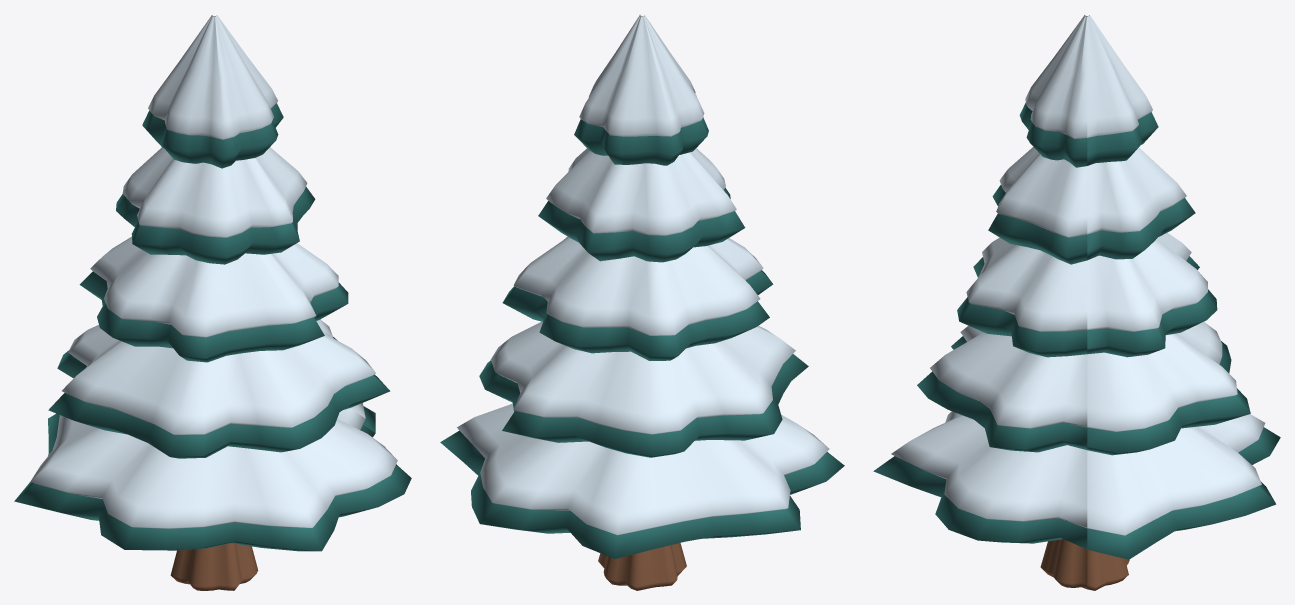
File: pine_3.glb
3 views of the same model, side by side, from view 1: azimuth 30°, elevation 25°; view 2: azimuth 150°, elevation 25°; view 3: azimuth 270°, elevation 25° (orthographic).
Visible parts, largest first — view 1: snow_mantle_0, snow_mantle_1, snow_mantle_2, snow_mantle_3, branch_crown_0, snow_mantle_4, branch_crown_1, branch_crown_2, branch_crown_3, branch_crown_4, sculpted_trunk; view 2: snow_mantle_0, snow_mantle_1, snow_mantle_2, snow_mantle_3, branch_crown_0, snow_mantle_4, branch_crown_1, branch_crown_2, branch_crown_3, branch_crown_4, sculpted_trunk; view 3: snow_mantle_0, snow_mantle_1, snow_mantle_2, snow_mantle_3, branch_crown_0, snow_mantle_4, branch_crown_1, branch_crown_2, branch_crown_3, branch_crown_4, sculpted_trunk.
Part boxes in pixels (bbox=[...]): snow_mantle_0: bbox=[30, 403, 397, 528]; snow_mantle_1: bbox=[62, 319, 375, 434]; snow_mantle_2: bbox=[90, 236, 338, 337]; snow_mantle_3: bbox=[122, 147, 307, 237]; branch_crown_0: bbox=[14, 406, 411, 551]; snow_mantle_4: bbox=[148, 15, 277, 139]; branch_crown_1: bbox=[48, 337, 389, 458]; branch_crown_2: bbox=[79, 271, 348, 362]; branch_crown_3: bbox=[116, 186, 315, 264]; branch_crown_4: bbox=[142, 103, 283, 168]; sculpted_trunk: bbox=[170, 15, 258, 590]; snow_mantle_0: bbox=[457, 403, 829, 535]; snow_mantle_1: bbox=[490, 321, 795, 434]; snow_mantle_2: bbox=[513, 236, 763, 335]; snow_mantle_3: bbox=[546, 148, 736, 235]; branch_crown_0: bbox=[440, 430, 844, 558]; snow_mantle_4: bbox=[579, 14, 704, 136]; branch_crown_1: bbox=[479, 354, 808, 457]; branch_crown_2: bbox=[502, 270, 773, 360]; branch_crown_3: bbox=[538, 187, 745, 262]; branch_crown_4: bbox=[574, 117, 708, 165]; sculpted_trunk: bbox=[598, 15, 686, 590]; snow_mantle_0: bbox=[891, 411, 1265, 535]; snow_mantle_1: bbox=[930, 322, 1237, 431]; snow_mantle_2: bbox=[966, 233, 1207, 331]; snow_mantle_3: bbox=[996, 147, 1186, 237]; branch_crown_0: bbox=[873, 427, 1280, 559]; snow_mantle_4: bbox=[1025, 15, 1152, 138]; branch_crown_1: bbox=[917, 336, 1250, 455]; branch_crown_2: bbox=[957, 256, 1217, 357]; branch_crown_3: bbox=[988, 185, 1195, 264]; branch_crown_4: bbox=[1019, 102, 1158, 167]; sculpted_trunk: bbox=[1040, 15, 1129, 590].
Bounding box in the file's own units: 2.63 × 3.9 × 2.58.
